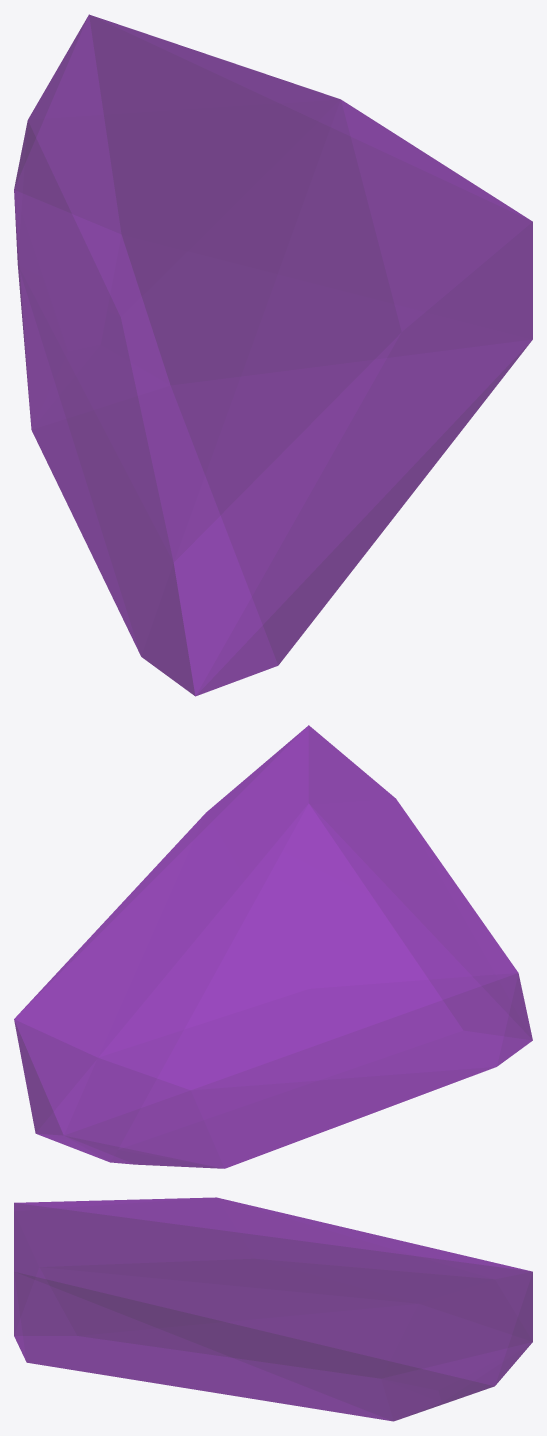
The picture shows the model from 3 angles, top to bottom: view 1: azimuth 30°, elevation 25°; view 2: azimuth 150°, elevation 25°; view 3: azimuth 270°, elevation 25°; orthographic projection. The views are drawn at different scales.
Visible parts, largest first — view 1: Shape_IndexedFaceSet.036_Shape_IndexedFaceSet.17571; view 2: Shape_IndexedFaceSet.036_Shape_IndexedFaceSet.17571; view 3: Shape_IndexedFaceSet.036_Shape_IndexedFaceSet.17571.
Boxes of the visible parts, bbox=[...] form: Shape_IndexedFaceSet.036_Shape_IndexedFaceSet.17571: bbox=[14, 14, 532, 696]; Shape_IndexedFaceSet.036_Shape_IndexedFaceSet.17571: bbox=[14, 725, 532, 1168]; Shape_IndexedFaceSet.036_Shape_IndexedFaceSet.17571: bbox=[14, 1197, 532, 1421].
Bounding box in the file's own units: 0.0489 × 0.0543 × 0.1113.
